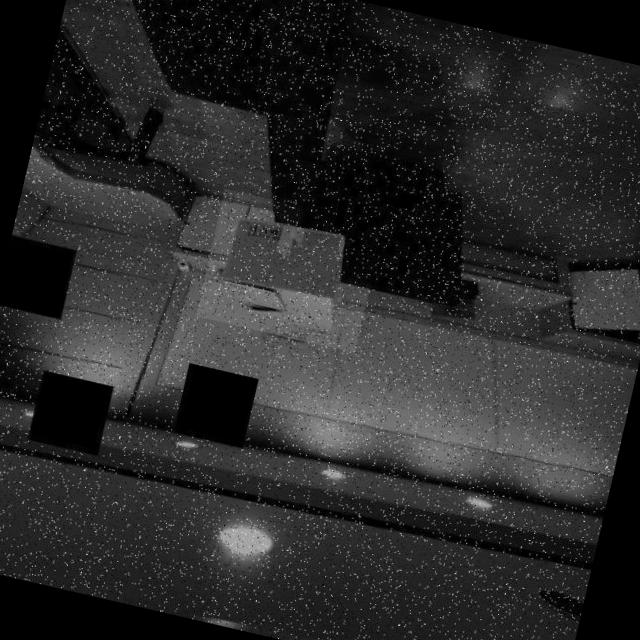box: (195, 188, 384, 353)
